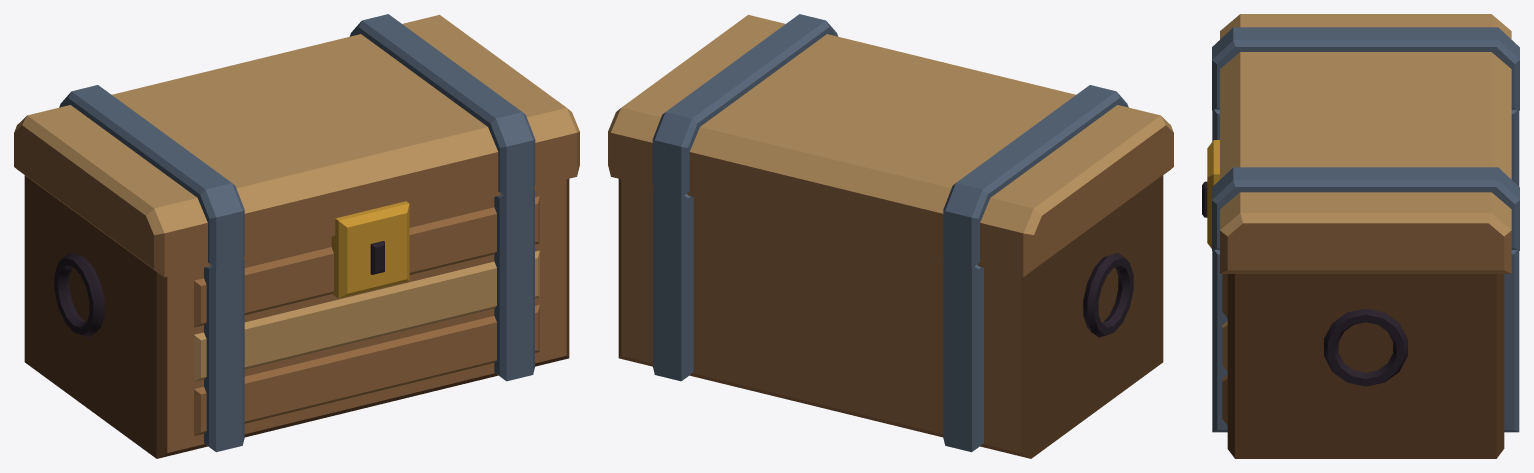
The model's file is Chest_13.glb.
The picture shows the model from 3 angles, left to right: view 1: azimuth 30°, elevation 25°; view 2: azimuth 150°, elevation 25°; view 3: azimuth 270°, elevation 25°; orthographic projection.
Parts seen in each view (by area): view 1: Chest_13; view 2: Chest_13; view 3: Chest_13.
Boxes of the visible parts, x1,y1,x2,y2 form: Chest_13: (14, 14, 579, 458); Chest_13: (608, 14, 1173, 458); Chest_13: (1202, 14, 1519, 458).
Size of the model in its own units: 4.02 by 2.22 by 2.5.
